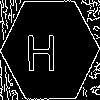H: (25, 25, 57, 71)
